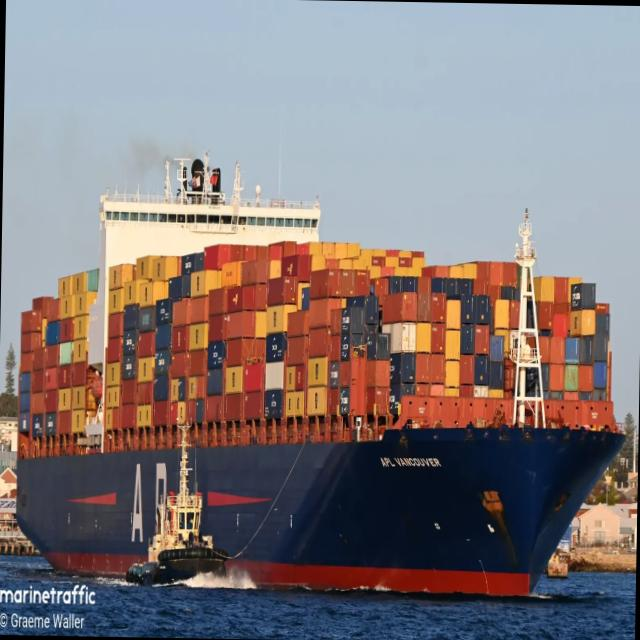Cargo: (16, 153, 624, 595)
Tug: (126, 418, 229, 583)
